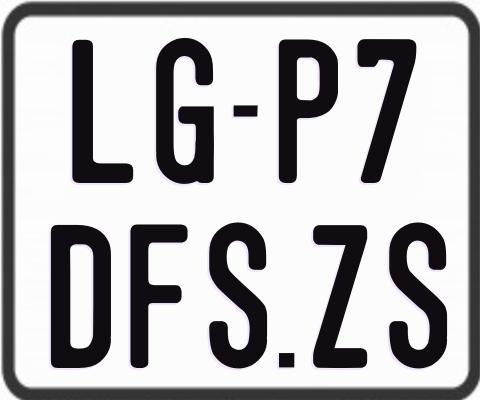7: (355, 37, 416, 187)
D: (48, 224, 111, 368)
F: (127, 223, 187, 367)
G: (156, 36, 220, 185)
L: (71, 40, 135, 183)
P: (276, 37, 339, 184)
S: (387, 222, 450, 372), (209, 222, 269, 372)
Z: (311, 225, 365, 370)
